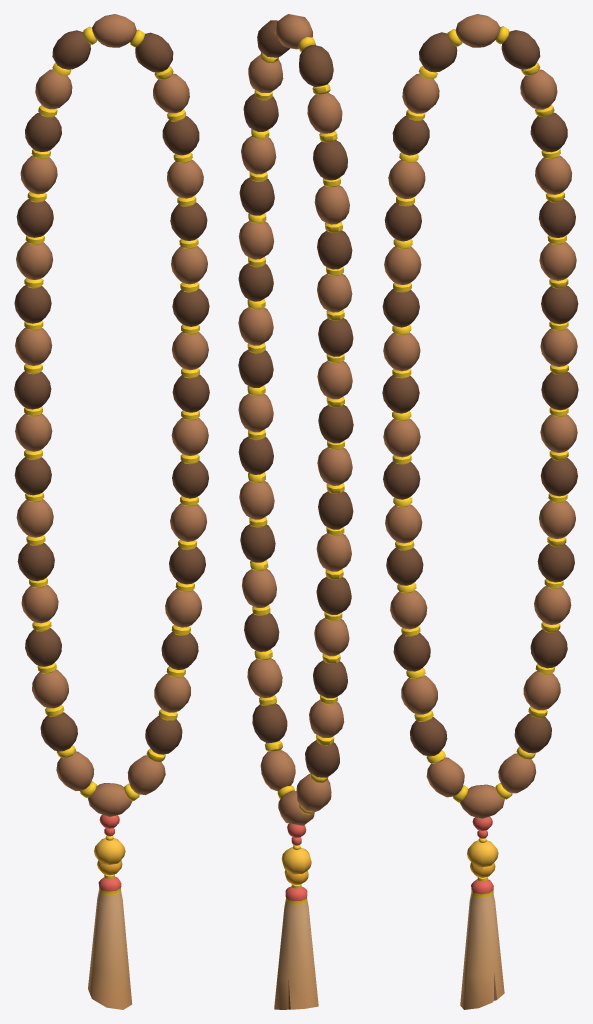
File: Decor_mirror.fbx
The picture shows the model from 3 angles, left to right: view 1: azimuth 90°, elevation 25°; view 2: azimuth 210°, elevation 25°; view 3: azimuth 270°, elevation 25°; orthographic projection.
Visible parts, largest first — view 1: Sphere_002_0; view 2: Sphere_002_0; view 3: Sphere_002_0.
Part boxes in pixels (x1,y1,x2,y2): Sphere_002_0: [14, 14, 209, 1009]; Sphere_002_0: [238, 14, 353, 1009]; Sphere_002_0: [382, 14, 578, 1009].
Bounding box in the file's own units: 224 × 5260 × 943.
